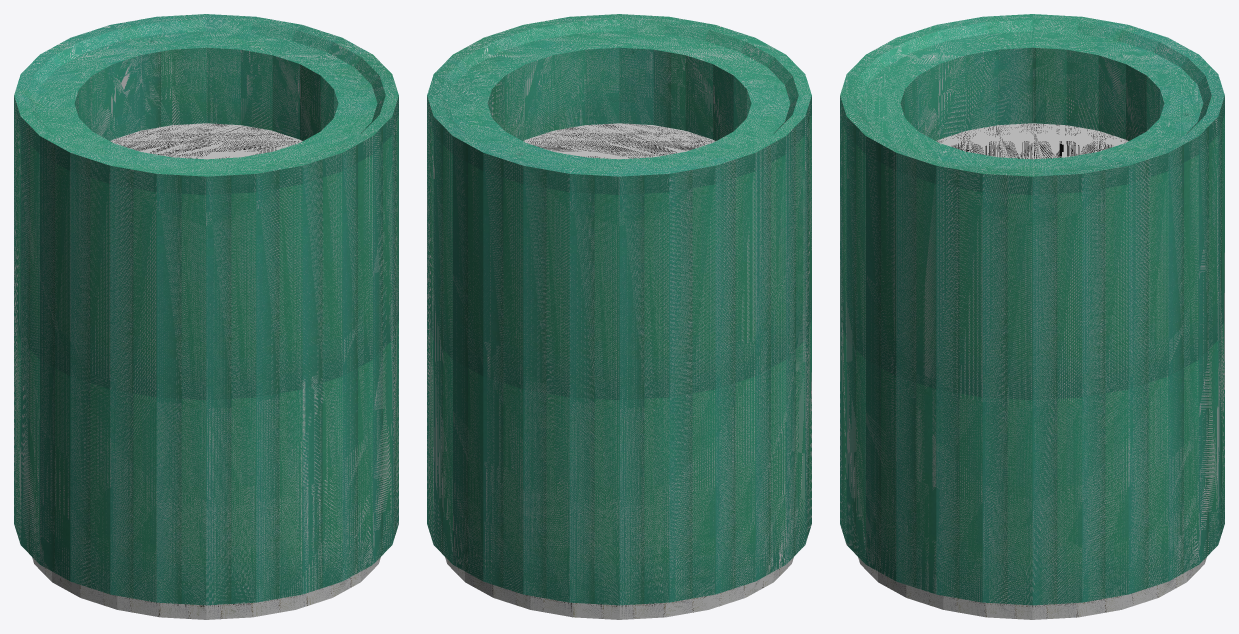
The picture shows the model from 3 angles, left to right: view 1: azimuth 30°, elevation 25°; view 2: azimuth 150°, elevation 25°; view 3: azimuth 270°, elevation 25°; orthographic projection.
Visible parts, largest first — view 1: mesh1_mesh1-geometry; view 2: mesh1_mesh1-geometry; view 3: mesh1_mesh1-geometry.
Boxes of the visible parts, x1,y1,x2,y2 form: mesh1_mesh1-geometry: (14,14,398,619); mesh1_mesh1-geometry: (427,14,811,619); mesh1_mesh1-geometry: (840,14,1224,619).
Bounding box in the file's own units: 0.5227 × 0.6734 × 0.5227.
